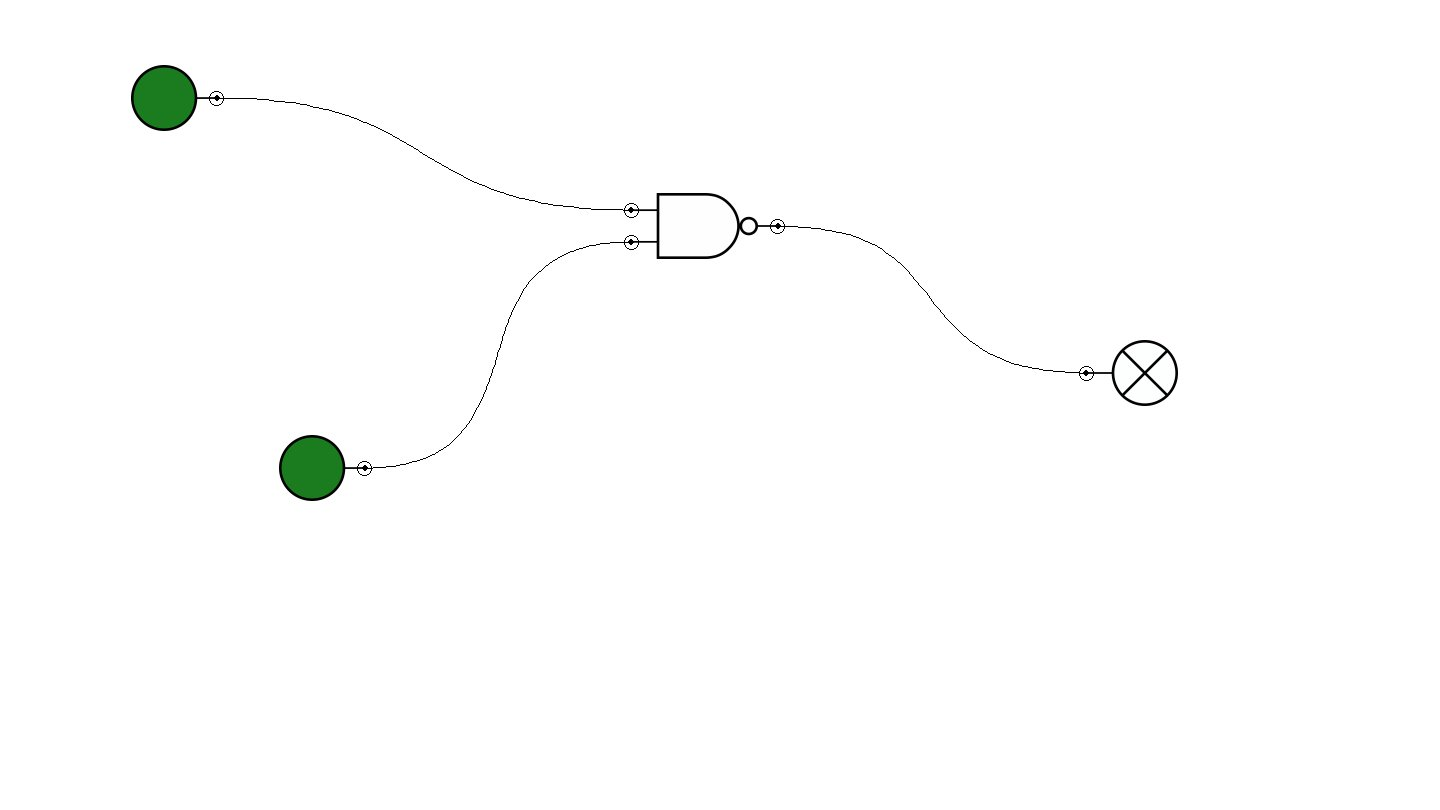bulb: (1079, 340, 1178, 406)
nand: (624, 193, 785, 259)
switch_True: (279, 435, 372, 501), (131, 65, 224, 131)
